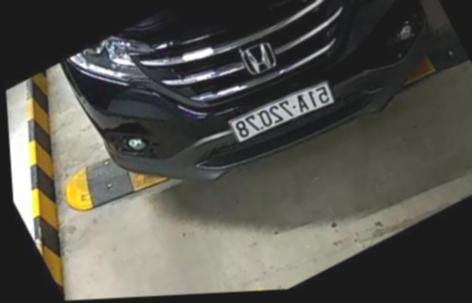License_Plate: (223, 78, 337, 153)
